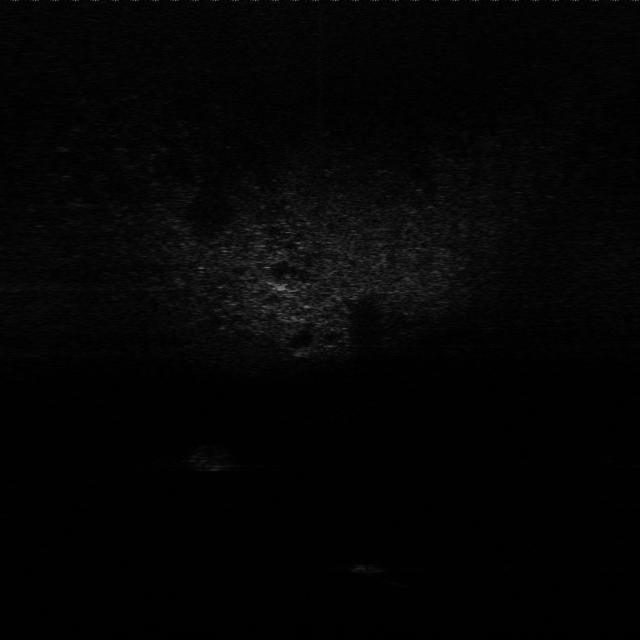circle cage: (183, 444, 247, 476)
cylinder: (342, 556, 397, 578)
